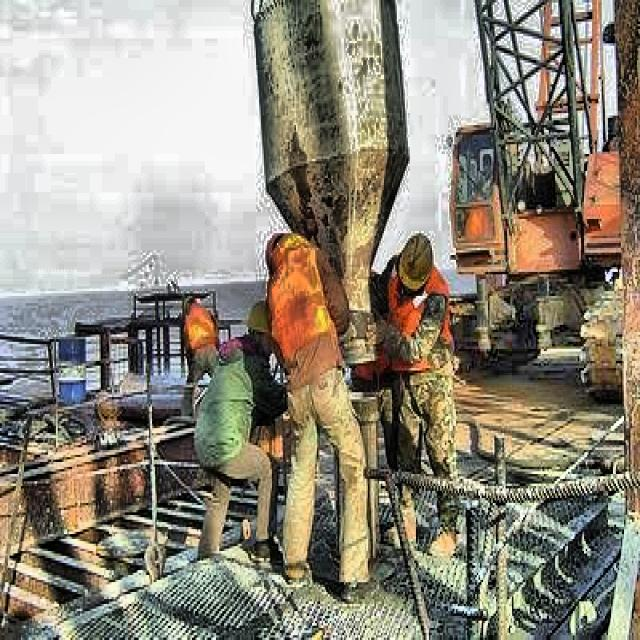helmet: (395, 228, 435, 288), (245, 298, 280, 364)
